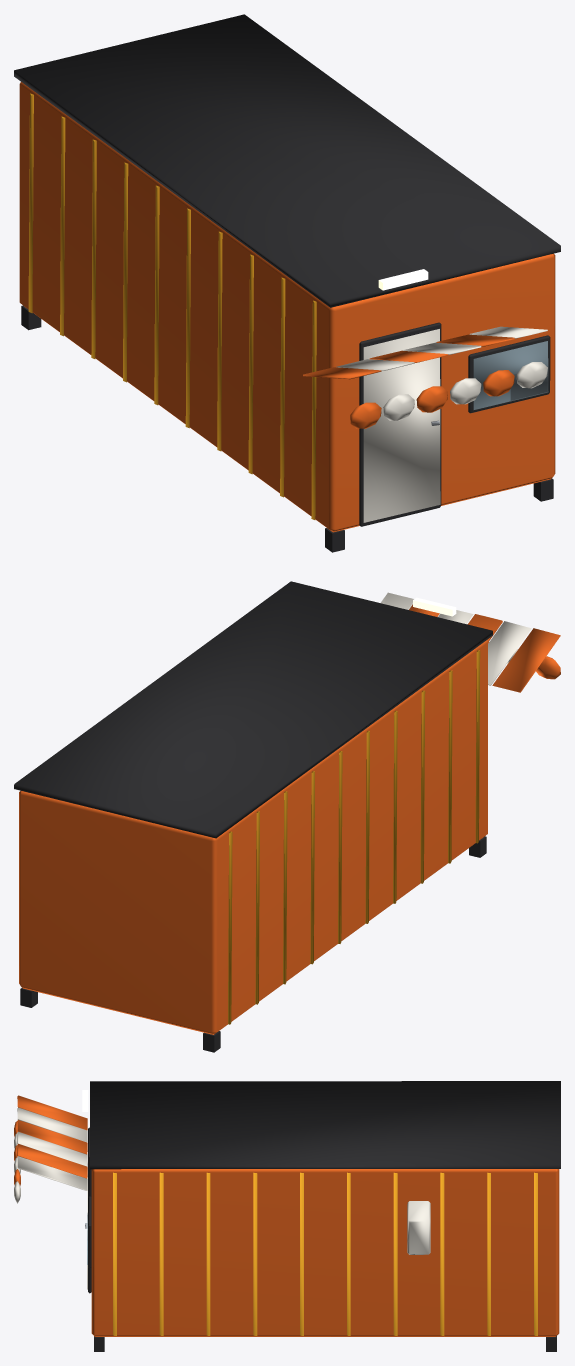
The model's file is site_hut.glb.
3 views of the same model, one above another, from view 1: azimuth 30°, elevation 25°; view 2: azimuth 150°, elevation 25°; view 3: azimuth 270°, elevation 25° (orthographic). The views are drawn at different scales.
Visible parts, largest first — view 1: site_hut; view 2: site_hut; view 3: site_hut.
Boxes of the visible parts, left/top/right/bottom form: site_hut: left=14, top=14, right=560, bottom=552; site_hut: left=14, top=581, right=560, bottom=1052; site_hut: left=14, top=1081, right=560, bottom=1351.
Bounding box in the file's own units: 3.45 × 2.79 × 7.02.
